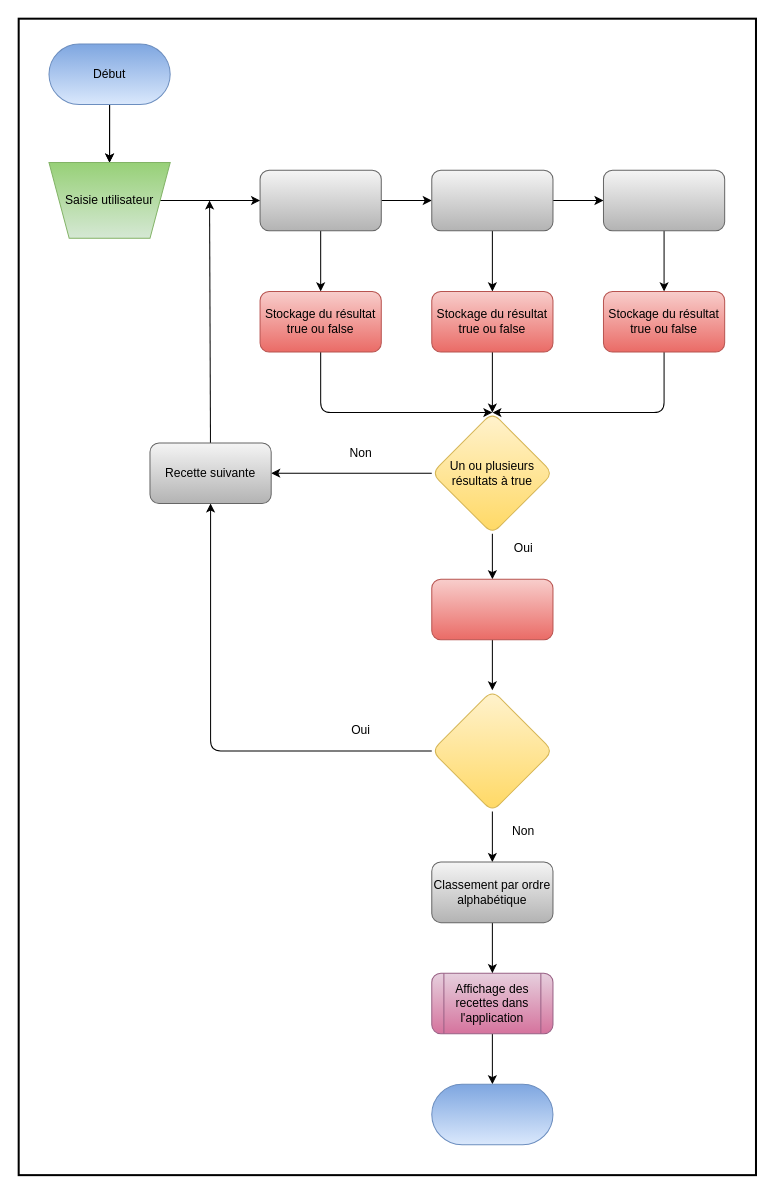
Image size: 774x1193. Some labels were removed from this diagram. The centre of each missing label's shape, as x and y in pixels:
Comparaison avec la description de la recette: (x=492, y=200)
Comparaison avec le nom de la recette: (x=320, y=200)
Comparaison avec les ingrédients de la recette: (x=663, y=200)
Fin: (x=492, y=1114)
Reste des recettes à tester: (x=492, y=750)
Stockage de la recette: (x=492, y=609)
